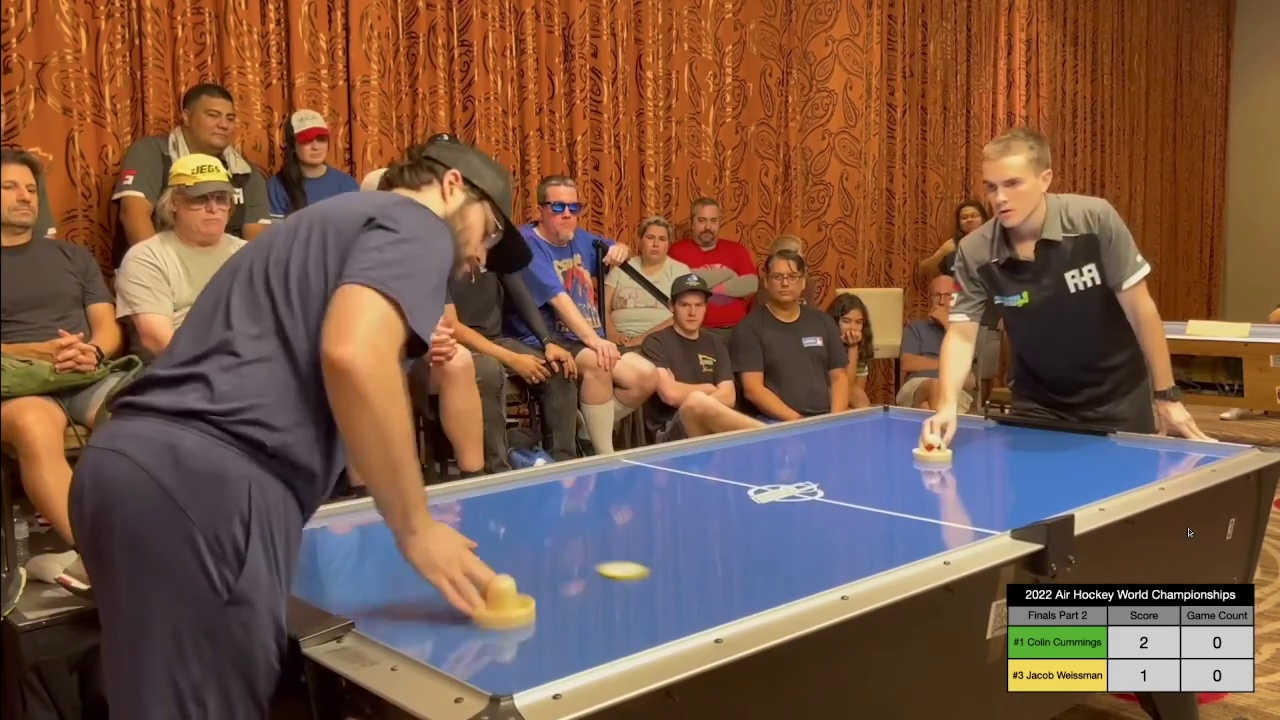player: (470, 571, 538, 627), (907, 434, 959, 464)
puck: (594, 557, 654, 585)
table: (261, 398, 1280, 704)
